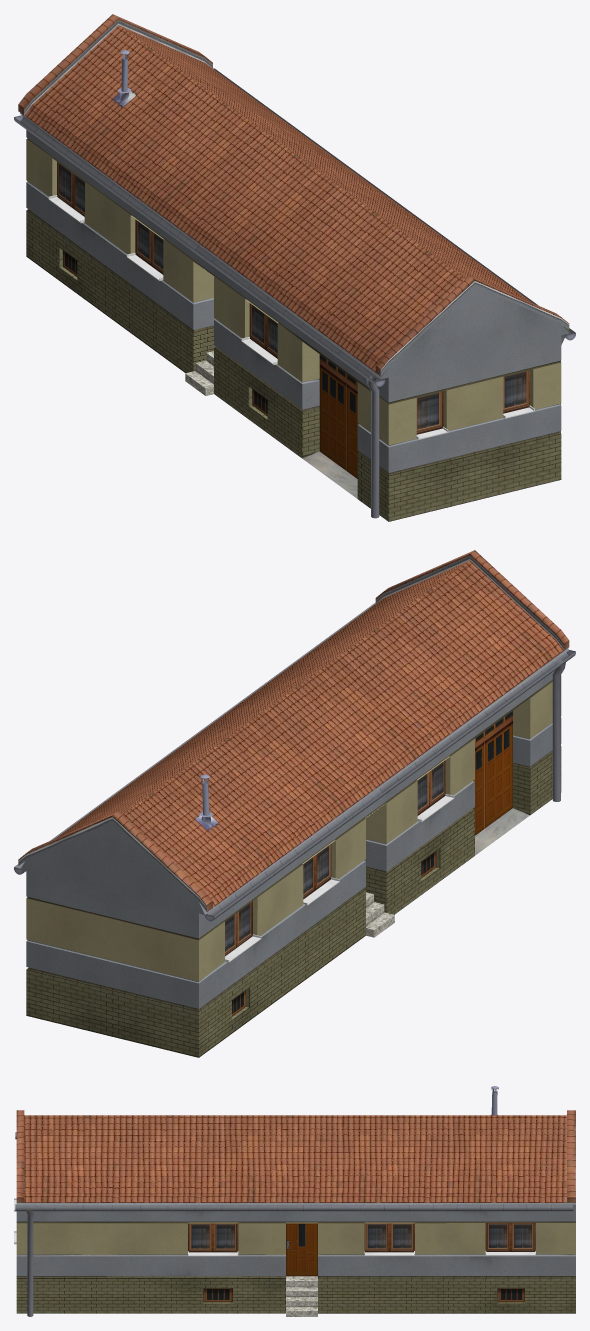
Rendered from house-2.glb.
3 views of the same model, one above another, from view 1: azimuth 30°, elevation 25°; view 2: azimuth 150°, elevation 25°; view 3: azimuth 270°, elevation 25° (orthographic). The views are drawn at different scales.
Parts seen in each view (by area): view 1: Cube.001; view 2: Cube.001; view 3: Cube.001.
Boxes of the visible parts, x1,y1,x2,y2 form: Cube.001: (14,14,575,521); Cube.001: (14,550,575,1057); Cube.001: (14,1086,575,1316).
Bounding box in the file's own units: 2.38 × 2.65 × 7.49.
2 materials, 2 textured.
